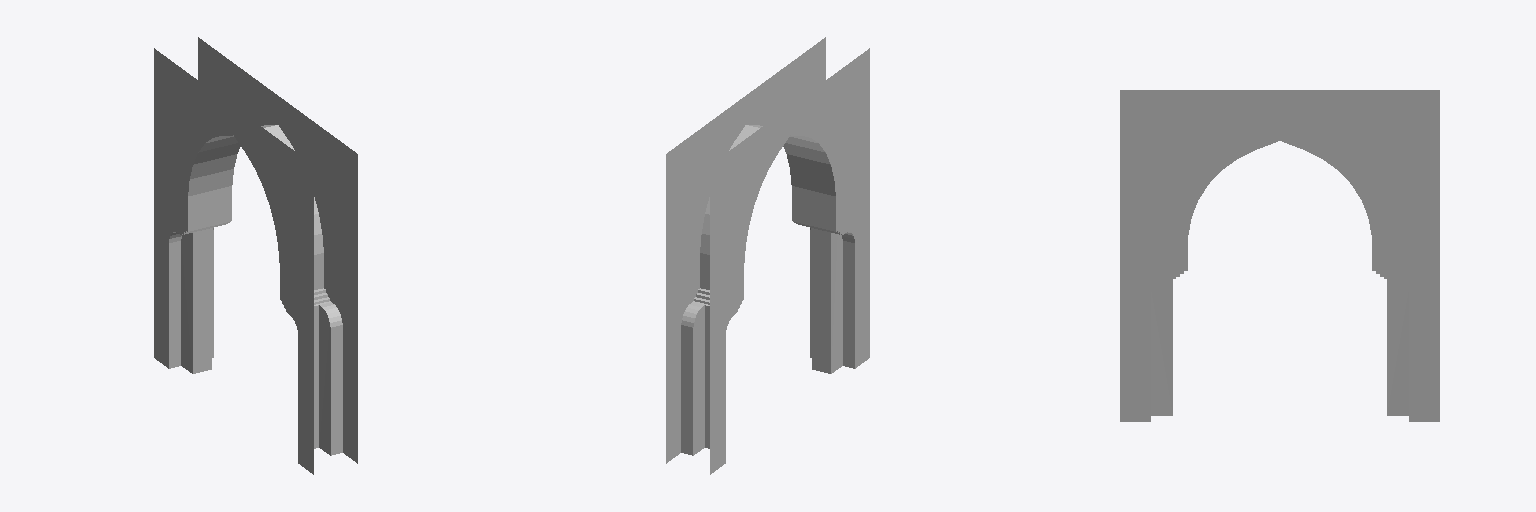
File: Arch_LP.obj
The picture shows the model from 3 angles: view 1: azimuth 30°, elevation 25°; view 2: azimuth 150°, elevation 25°; view 3: azimuth 270°, elevation 25°; orthographic projection.
Visible parts, largest first — view 1: Arch_LP:Arch_LP_corner1group1; view 2: Arch_LP:Arch_LP_corner1group1; view 3: Arch_LP:Arch_LP_corner1group1.
Part boxes in pixels (x1,y1,x2,y2): Arch_LP:Arch_LP_corner1group1: (154, 37, 357, 474); Arch_LP:Arch_LP_corner1group1: (666, 37, 869, 474); Arch_LP:Arch_LP_corner1group1: (1120, 90, 1439, 421).
Bounding box in the file's own units: 6.92 × 46.13 × 43.15.